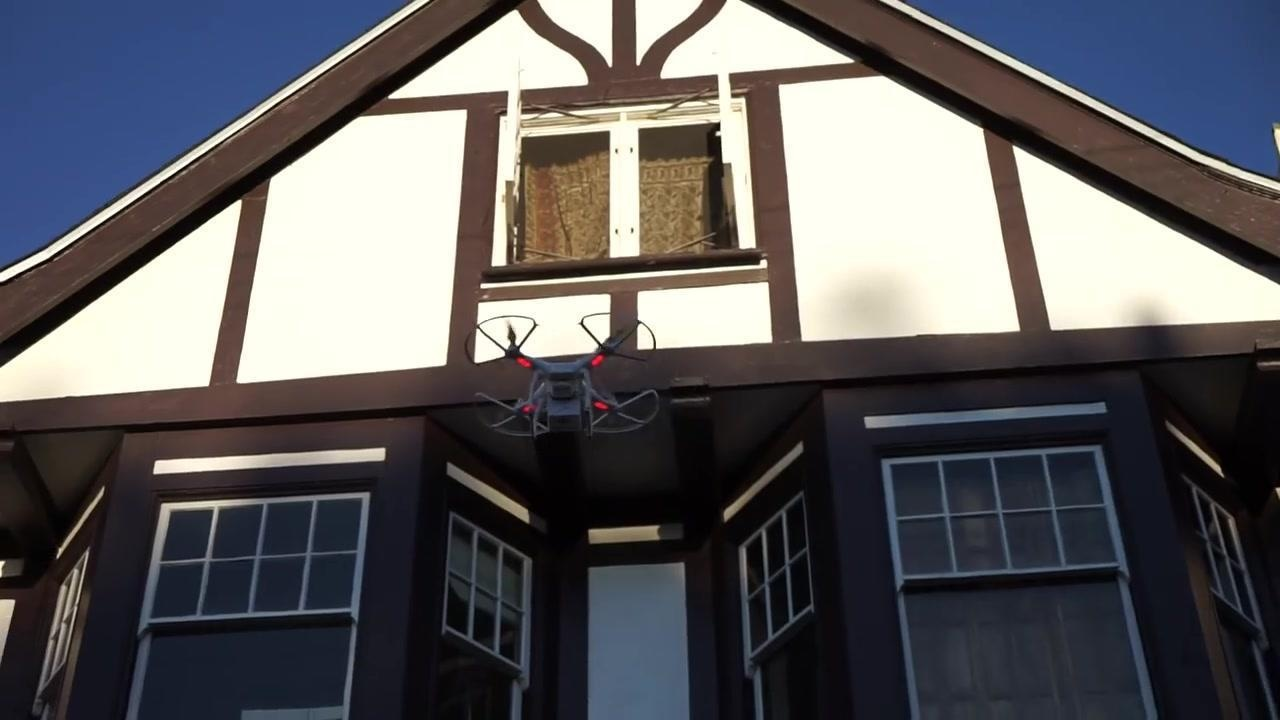UAV: (465, 313, 660, 441)
